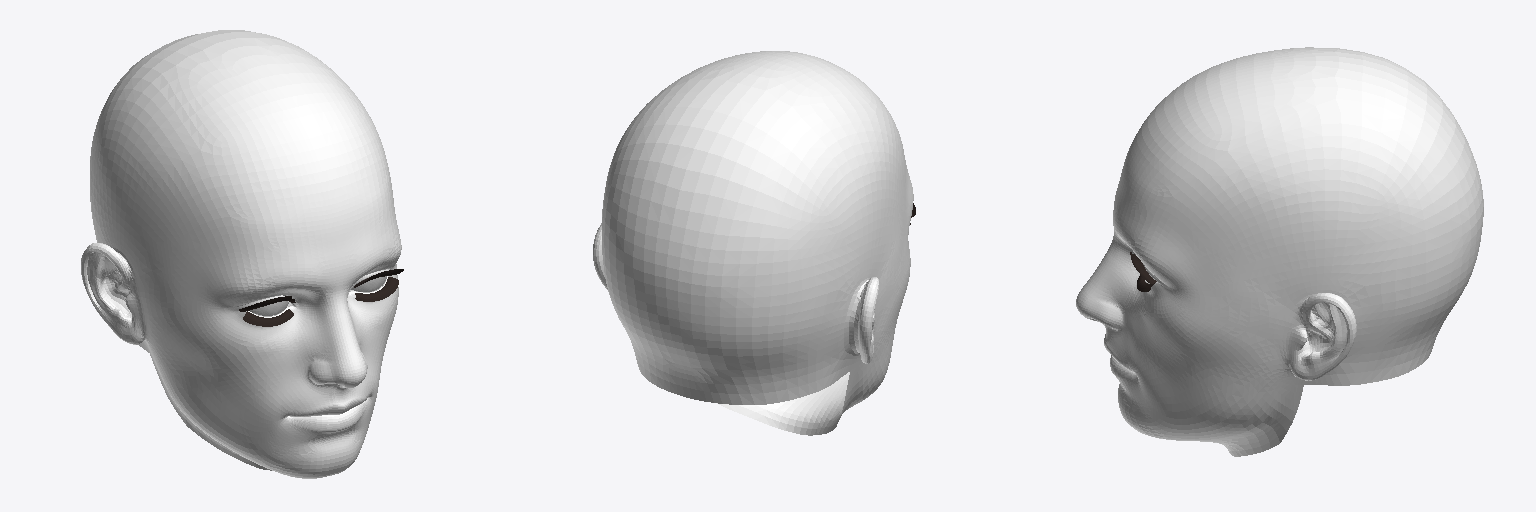
Rendered from Male.obj.
3 renders of one model, left to right at view 1: azimuth 30°, elevation 25°; view 2: azimuth 150°, elevation 25°; view 3: azimuth 270°, elevation 25°, orthographic.
Visible parts, largest first — view 1: Male; view 2: Male; view 3: Male.
Part boxes in pixels (x1,y1,x2,y2): Male: (81, 30, 403, 478); Male: (593, 51, 915, 435); Male: (1076, 47, 1483, 456).
Size of the model in its own units: 17.95 by 23.97 by 22.68.